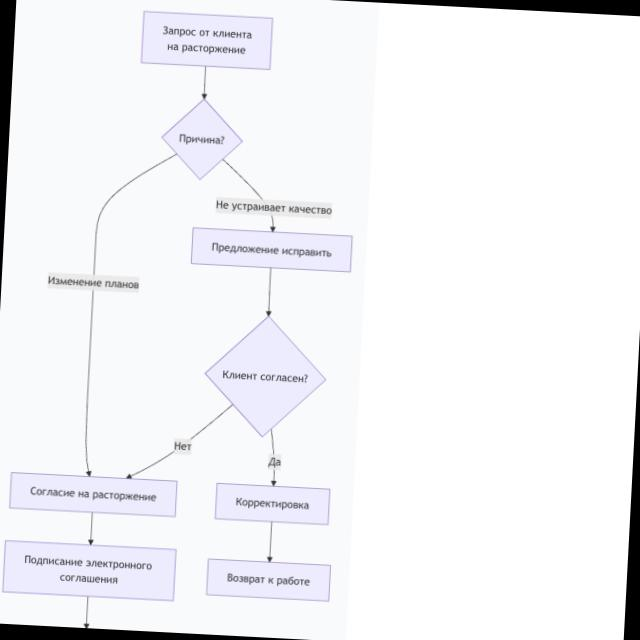arrow: (49, 146, 178, 479), (126, 399, 232, 485), (216, 158, 284, 232), (259, 265, 279, 319), (268, 429, 279, 486), (80, 596, 94, 628), (198, 66, 210, 100), (266, 522, 276, 562), (87, 512, 97, 546)
diamond: (206, 317, 325, 436), (163, 100, 241, 179)
rectangle: (3, 541, 176, 601), (141, 11, 273, 70), (10, 473, 176, 517), (192, 228, 352, 271), (206, 559, 331, 601), (215, 484, 330, 525)
text_region: (214, 199, 335, 220), (46, 274, 140, 292), (174, 438, 192, 454), (268, 456, 282, 470)
